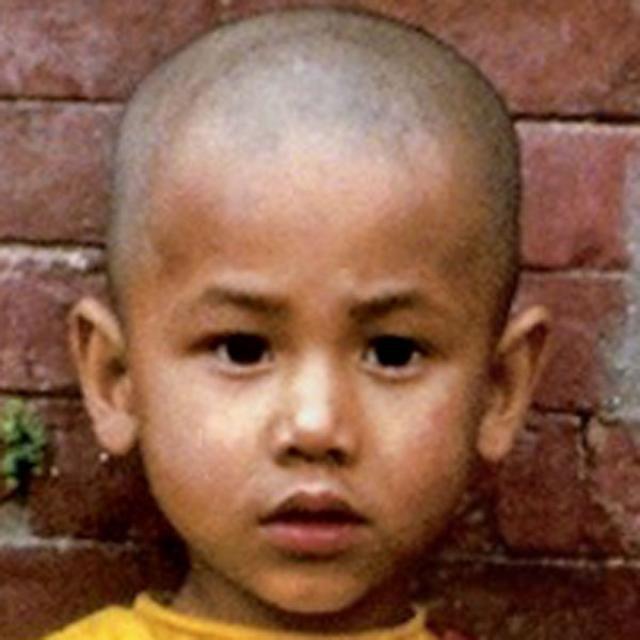face: (70, 25, 558, 621)
